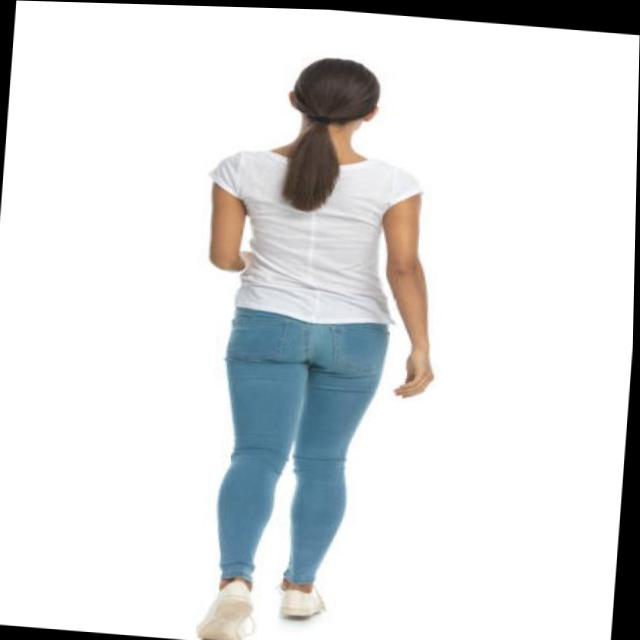no helmet: (278, 49, 422, 165)
